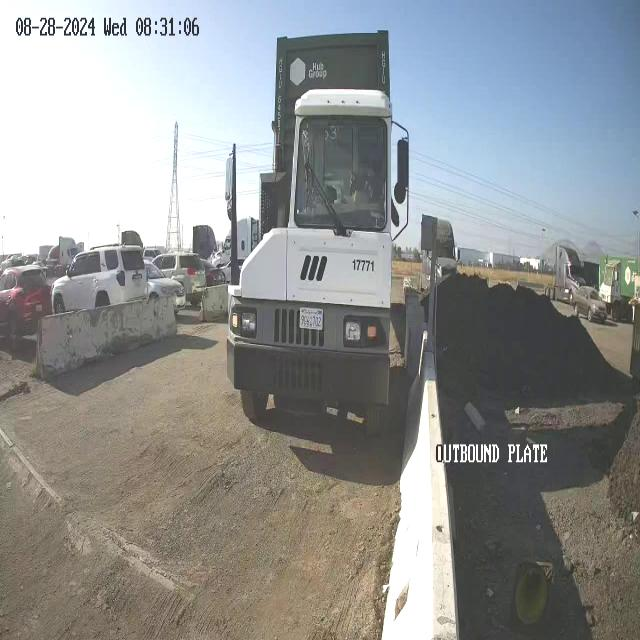CONTAINER: (274, 28, 396, 312)
